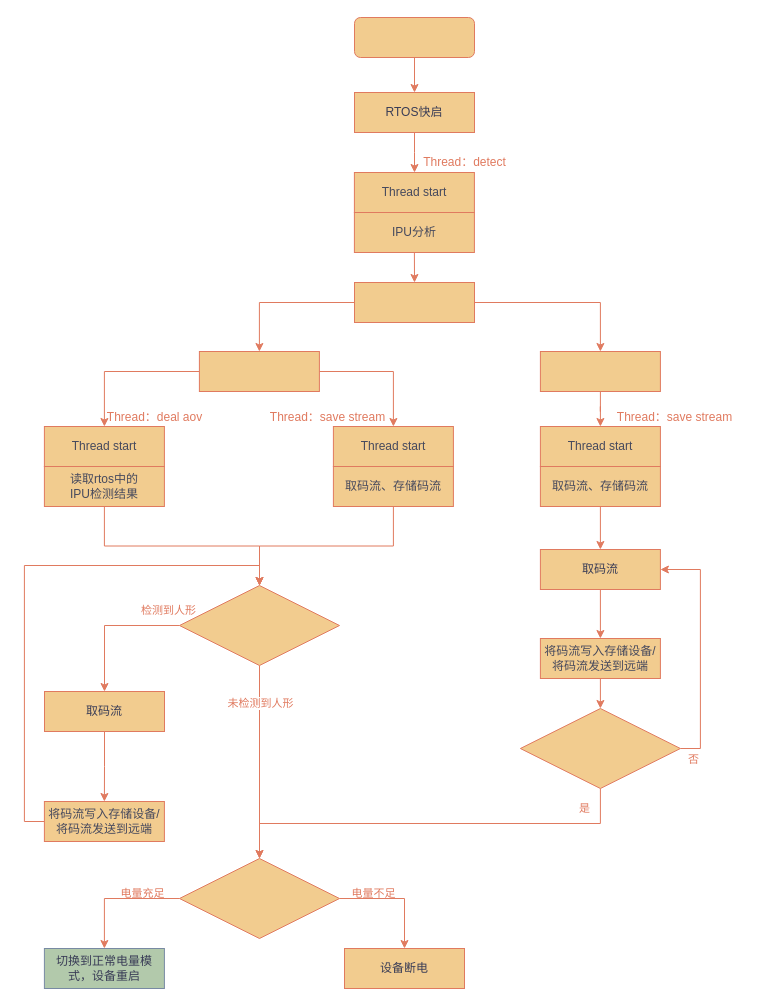
This 762x1006 diagram has some shape labels left out. Here are the shapes that lost their labels. From the top down, the centre of each, then its label:
At point (414, 37): "低电量模式".
At point (414, 302): "Linux启动 启动preload_demo".
At point (258, 371): "PIR唤醒".
At point (599, 371): "用户预览唤醒".
At point (259, 625): "IPU分析结果".
At point (599, 748): "判断wifi预览是否断开".
At point (259, 898): "电量判断".
